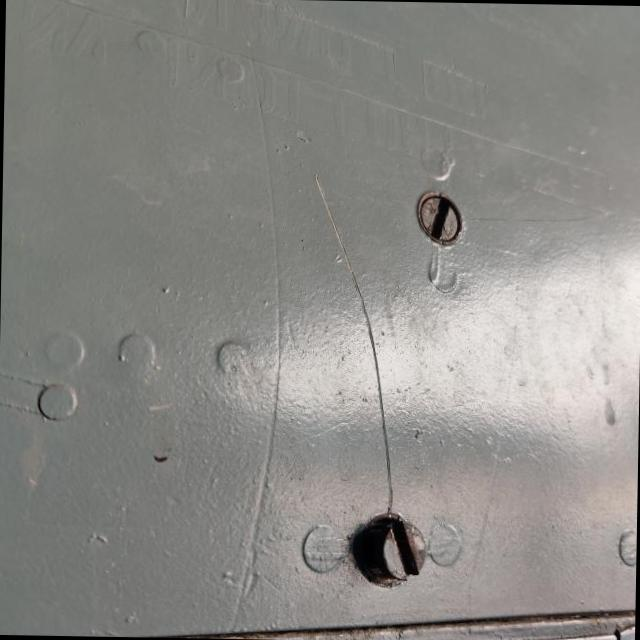Scratch: (309, 177, 396, 480)
